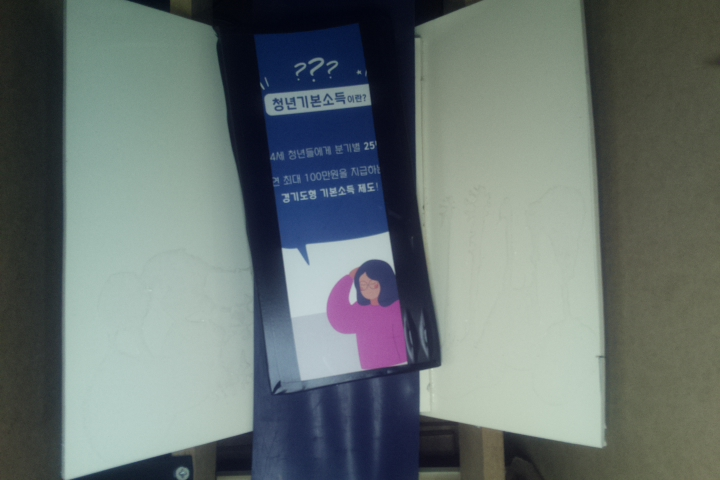book: (212, 1, 443, 398)
